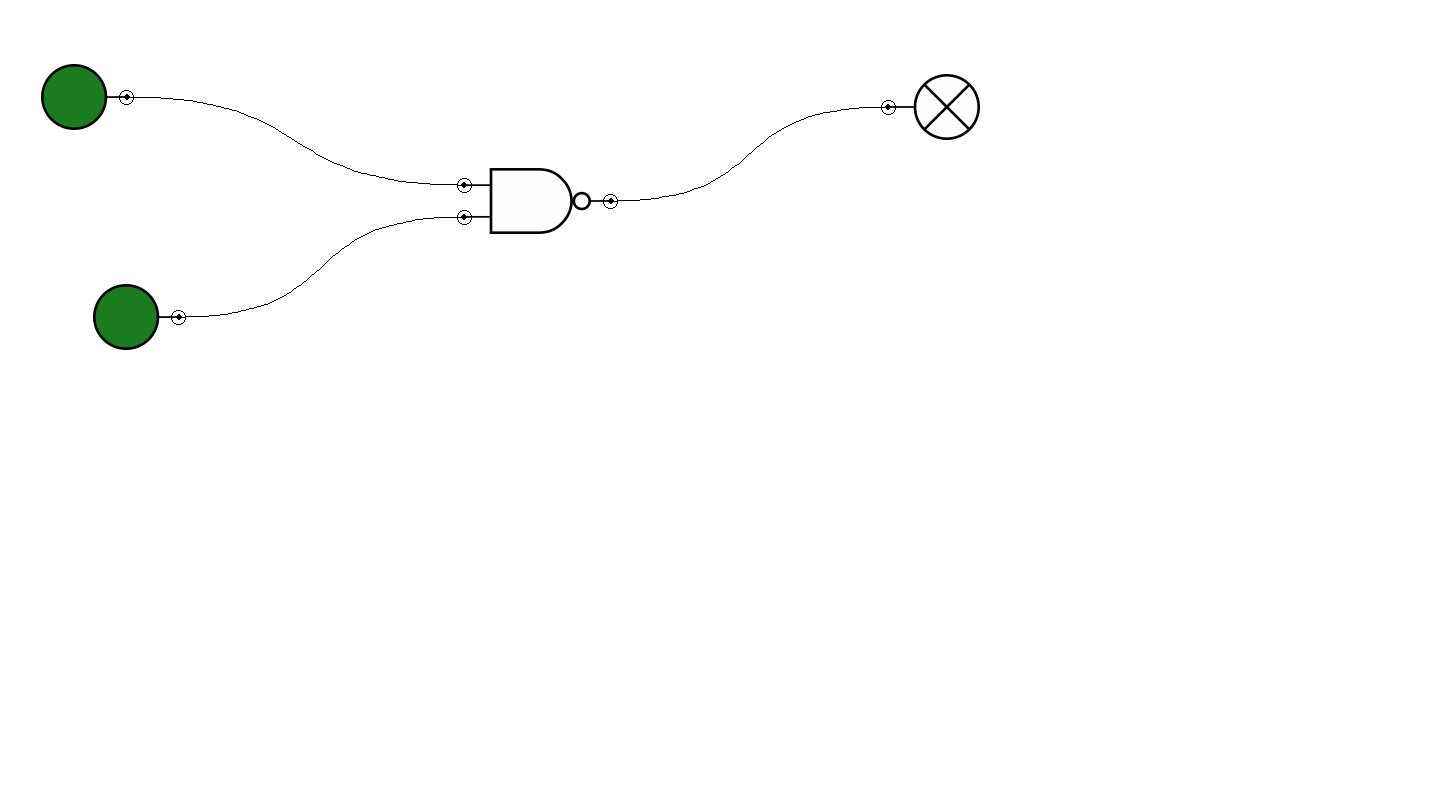bulb: (881, 74, 980, 140)
nand: (457, 168, 618, 234)
switch_True: (41, 64, 134, 130), (93, 284, 186, 350)
